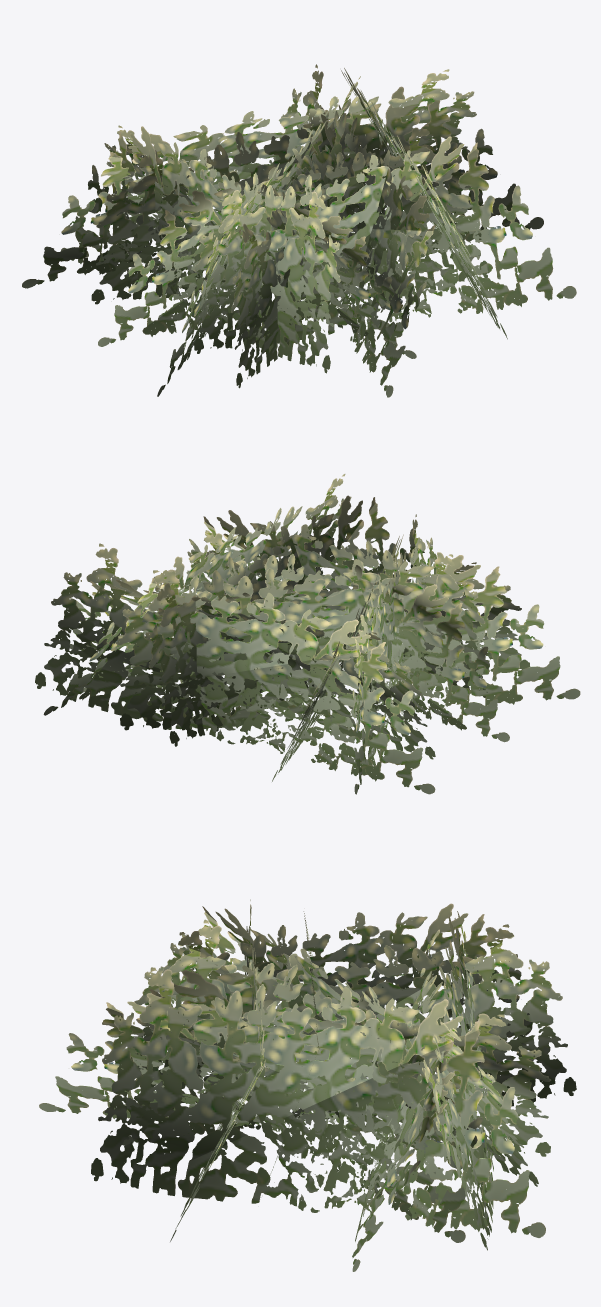
File: grass_leafy_a.glb
3 renders of one model, top to bottom at view 1: azimuth 30°, elevation 25°; view 2: azimuth 150°, elevation 25°; view 3: azimuth 270°, elevation 25°, orthographic. The views are drawn at different scales.
Parts seen in each view (by area): view 1: grass_leafy_a; view 2: grass_leafy_a; view 3: grass_leafy_a.
Boxes of the visible parts, x1,y1,x2,y2 form: grass_leafy_a: (22, 64, 576, 397); grass_leafy_a: (35, 474, 580, 794); grass_leafy_a: (39, 899, 576, 1271).
Bounding box in the file's own units: 8.08 × 3.12 × 7.43.
Materials: 1 (1 with a texture image).
